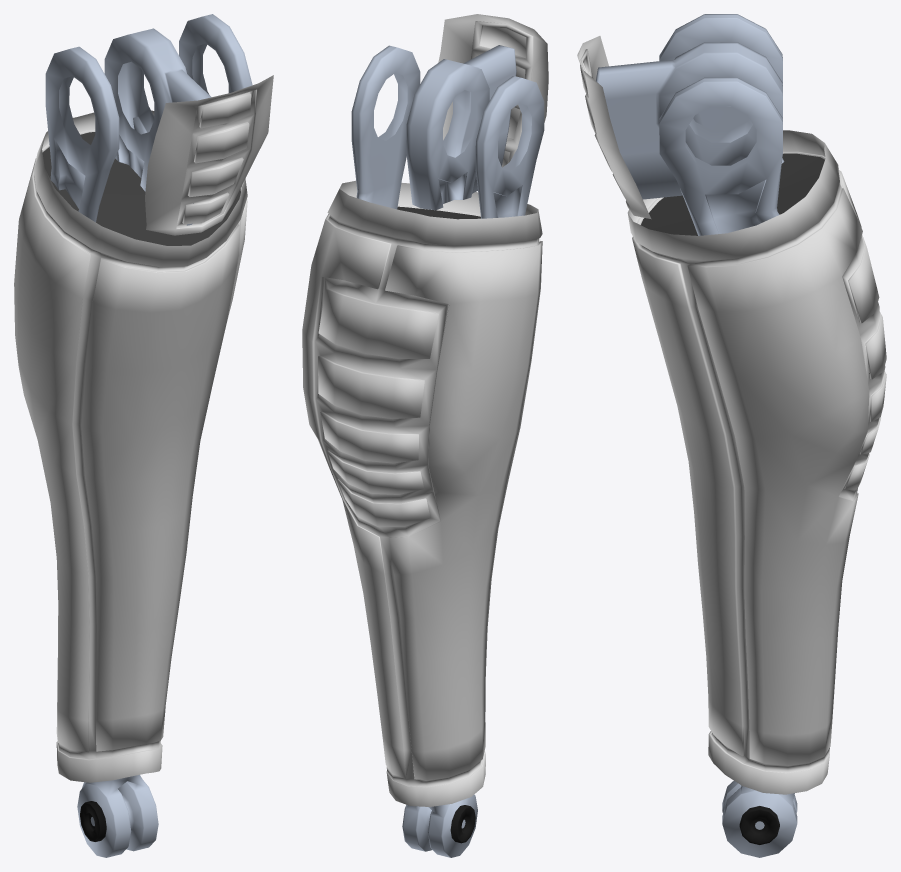
File: leftShin.dae
3 renders of one model, left to right at view 1: azimuth 30°, elevation 25°; view 2: azimuth 150°, elevation 25°; view 3: azimuth 270°, elevation 25°, orthographic. The views are drawn at different scales.
Parts seen in each view (by area): view 1: Mesh_017, Mesh_013, Circle_152, Circle_237, Circle_156; view 2: Mesh_017, Circle_152, Circle_237, Mesh_013, Circle_156; view 3: Mesh_017, Circle_152, Circle_237, Circle_156, Mesh_013.
Part boxes in pixels (x1,y1,x2,y2): Mesh_017: [14, 110, 247, 782]; Mesh_013: [145, 75, 273, 235]; Circle_152: [45, 14, 252, 222]; Circle_237: [104, 28, 211, 225]; Circle_156: [77, 775, 158, 857]; Mesh_017: [302, 180, 542, 806]; Circle_152: [351, 45, 544, 218]; Circle_237: [406, 45, 516, 210]; Mesh_013: [438, 14, 548, 167]; Circle_156: [402, 794, 477, 857]; Mesh_017: [627, 130, 886, 794]; Circle_152: [659, 14, 784, 235]; Circle_237: [596, 42, 782, 199]; Circle_156: [722, 781, 797, 857]; Mesh_013: [577, 36, 651, 219].
Size of the model in its own units: 2.13 by 2.82 by 8.08.
